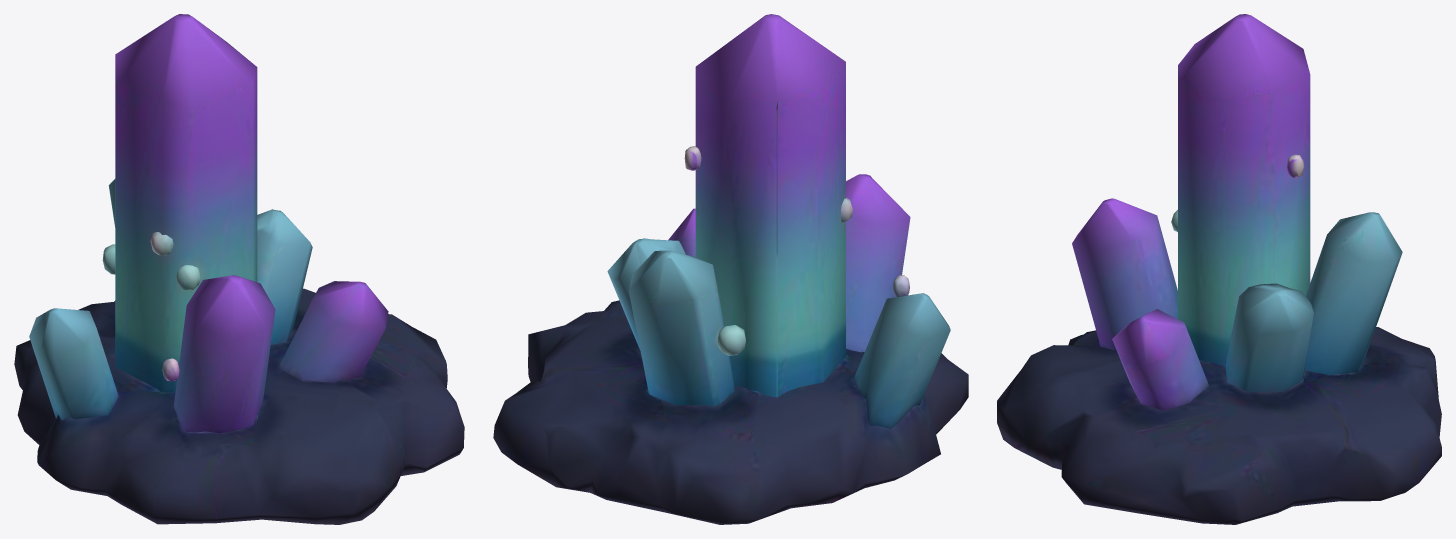
The model's file is crystal.glb.
The picture shows the model from 3 angles, left to right: view 1: azimuth 30°, elevation 25°; view 2: azimuth 150°, elevation 25°; view 3: azimuth 270°, elevation 25°; orthographic projection. The views are drawn at different scales.
Parts seen in each view (by area): view 1: tripo_node_5fdad844-8509-4b25-9c0c-3bf4f6599391; view 2: tripo_node_5fdad844-8509-4b25-9c0c-3bf4f6599391; view 3: tripo_node_5fdad844-8509-4b25-9c0c-3bf4f6599391.
Part boxes in pixels (x1,y1,x2,y2): tripo_node_5fdad844-8509-4b25-9c0c-3bf4f6599391: (14, 14, 464, 524); tripo_node_5fdad844-8509-4b25-9c0c-3bf4f6599391: (493, 14, 968, 524); tripo_node_5fdad844-8509-4b25-9c0c-3bf4f6599391: (997, 14, 1441, 524).
Bounding box in the file's own units: 0.998 × 0.9863 × 0.998.
1 material, 1 textured.
